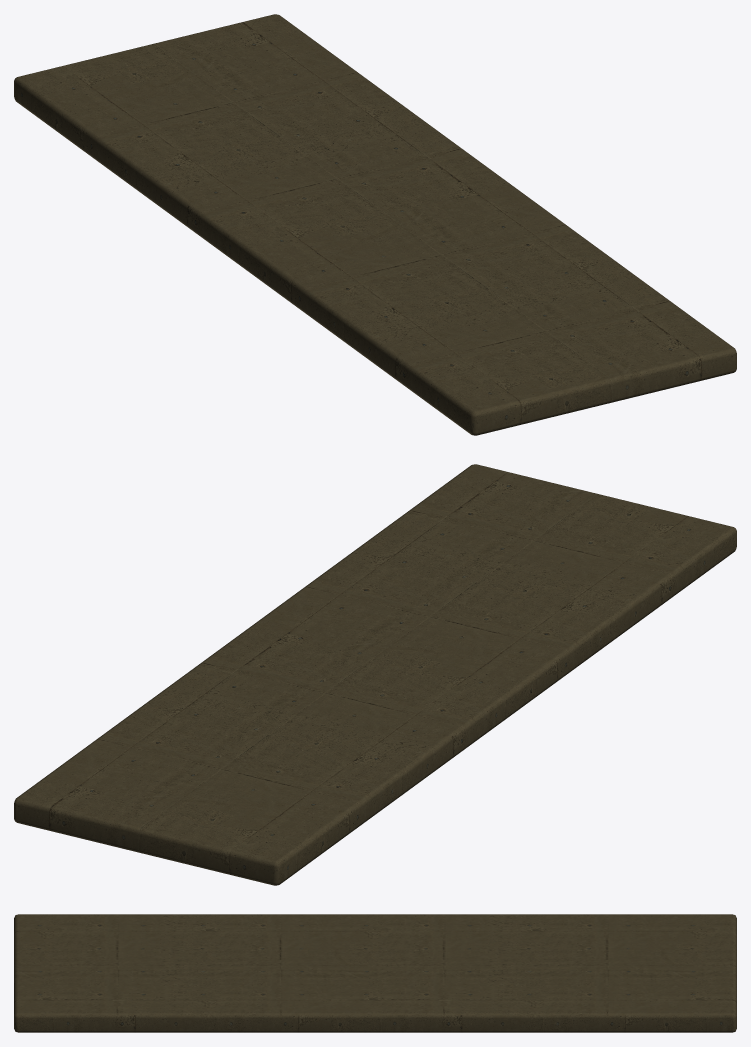
The model's file is sidewalk.glb.
3 views of the same model, one above another, from view 1: azimuth 30°, elevation 25°; view 2: azimuth 150°, elevation 25°; view 3: azimuth 270°, elevation 25° (orthographic). The views are drawn at different scales.
Visible parts, largest first — view 1: MODULE_sidewalk; view 2: MODULE_sidewalk; view 3: MODULE_sidewalk.
Part boxes in pixels (bbox=[...]): MODULE_sidewalk: bbox=[14, 14, 736, 435]; MODULE_sidewalk: bbox=[14, 464, 736, 885]; MODULE_sidewalk: bbox=[14, 914, 736, 1032].
Bounding box in the file's own units: 2 × 0.18 × 6.
1 material, 1 textured.
